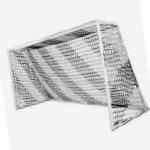goals: (6, 17, 150, 132)
